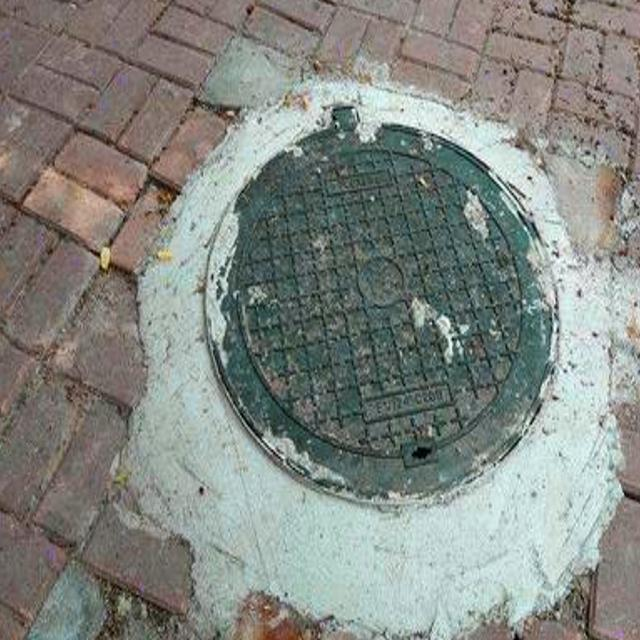good: (146, 72, 620, 626)
